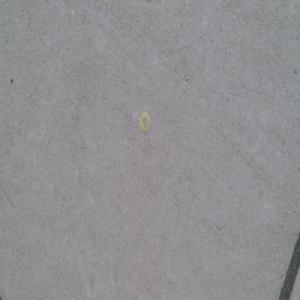Washer: (139, 110, 151, 133)
